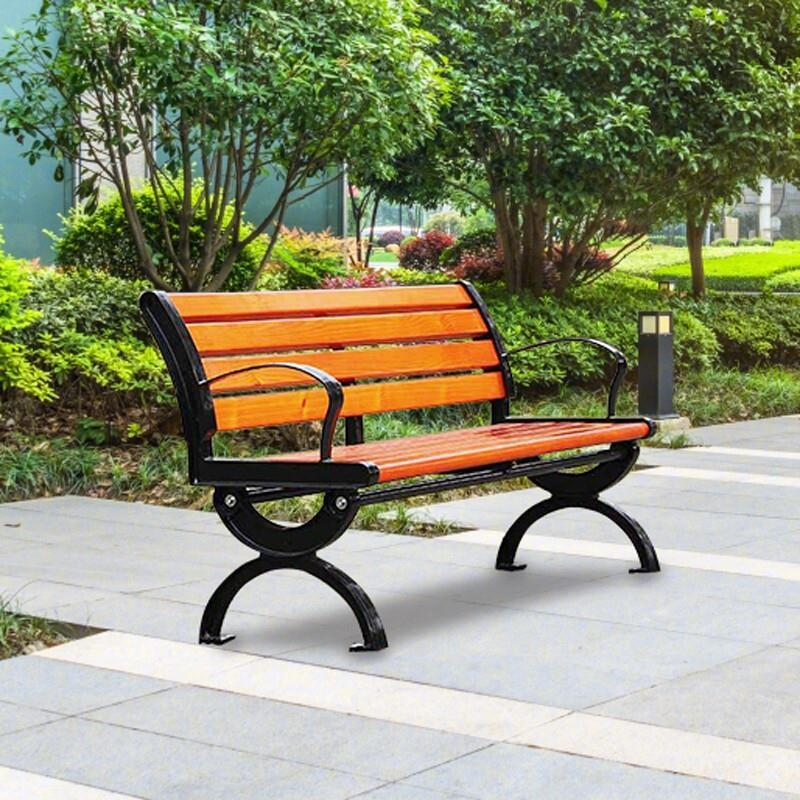Chair: (120, 281, 648, 654)
Tree: (15, 4, 424, 281), (427, 11, 800, 285)
